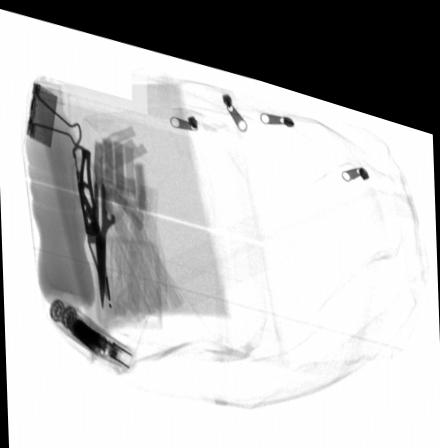Knife: (70, 136, 106, 293)
Scissors: (76, 159, 126, 302)
